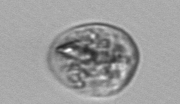plankton: (42, 19, 145, 101)
